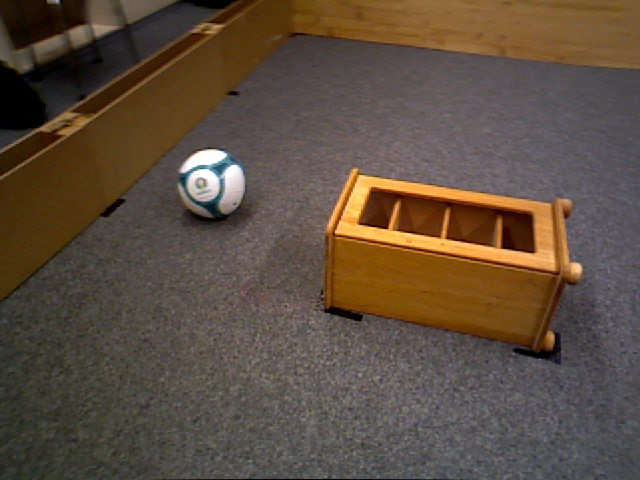kick: (177, 147, 246, 221)
